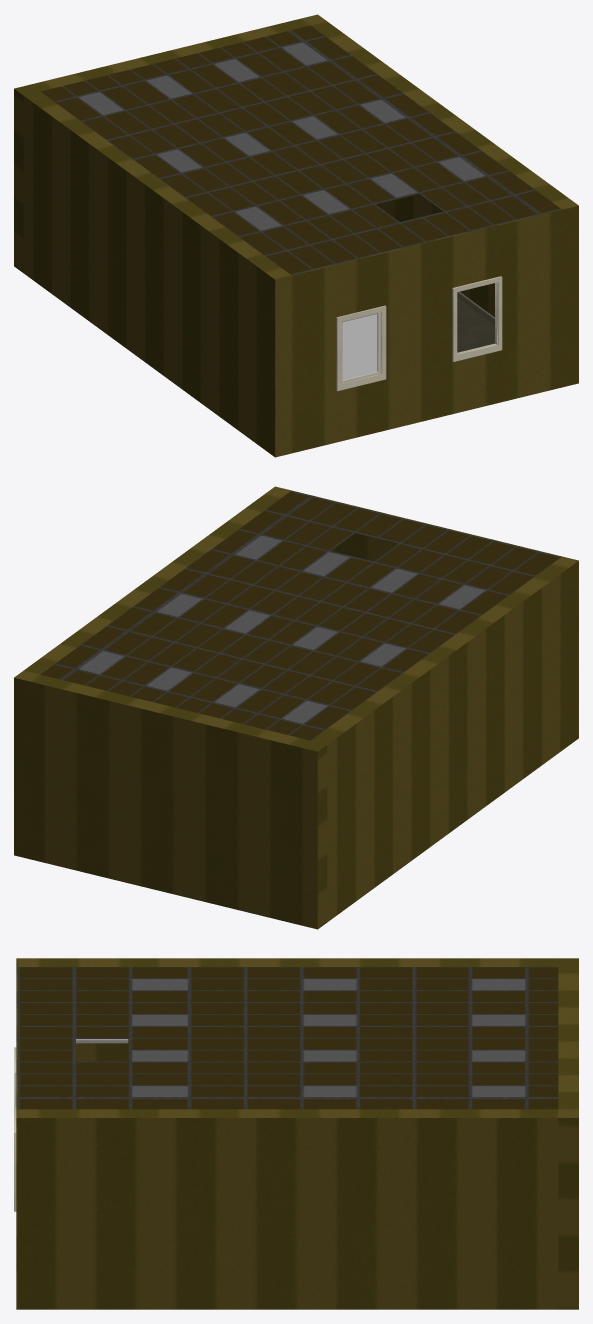
The model's file is M_Room_V3.fbx.
3 renders of one model, top to bottom at view 1: azimuth 30°, elevation 25°; view 2: azimuth 150°, elevation 25°; view 3: azimuth 270°, elevation 25°, orthographic. The views are drawn at different scales.
Visible parts, largest first — view 1: M_Ceiling, M_Wall2, M_Wall1, M_Wall3, M_Wall4, Window_glass2, M_Window_frame, M_Floor, M_Window_frame2, Rama.001; view 2: M_Ceiling, M_Wall4, M_Wall2, M_Wall3, M_Wall1; view 3: M_Wall3, M_Ceiling, M_Wall4, M_Wall2, M_Wall1.
Part boxes in pixels (x1,y1,x2,y2): M_Ceiling: [40, 25, 561, 275]; M_Wall2: [23, 91, 290, 456]; M_Wall1: [274, 205, 578, 457]; M_Wall3: [311, 21, 577, 316]; M_Wall4: [14, 14, 326, 272]; Window_glass2: [342, 314, 377, 379]; M_Window_frame: [452, 276, 502, 361]; M_Floor: [457, 298, 496, 352]; M_Window_frame2: [336, 305, 386, 391]; Rama.001: [341, 312, 380, 383]; M_Ceiling: [41, 491, 561, 740]; M_Wall4: [14, 670, 327, 929]; M_Wall2: [311, 557, 578, 922]; M_Wall3: [24, 487, 290, 674]; M_Wall1: [275, 486, 578, 738]; M_Wall3: [17, 1109, 558, 1309]; M_Ceiling: [17, 967, 558, 1109]; M_Wall4: [558, 958, 578, 1309]; M_Wall2: [17, 958, 558, 1061]; M_Wall1: [16, 958, 17, 1309].
Bounding box in the file's own units: 802 × 448 × 1199.
